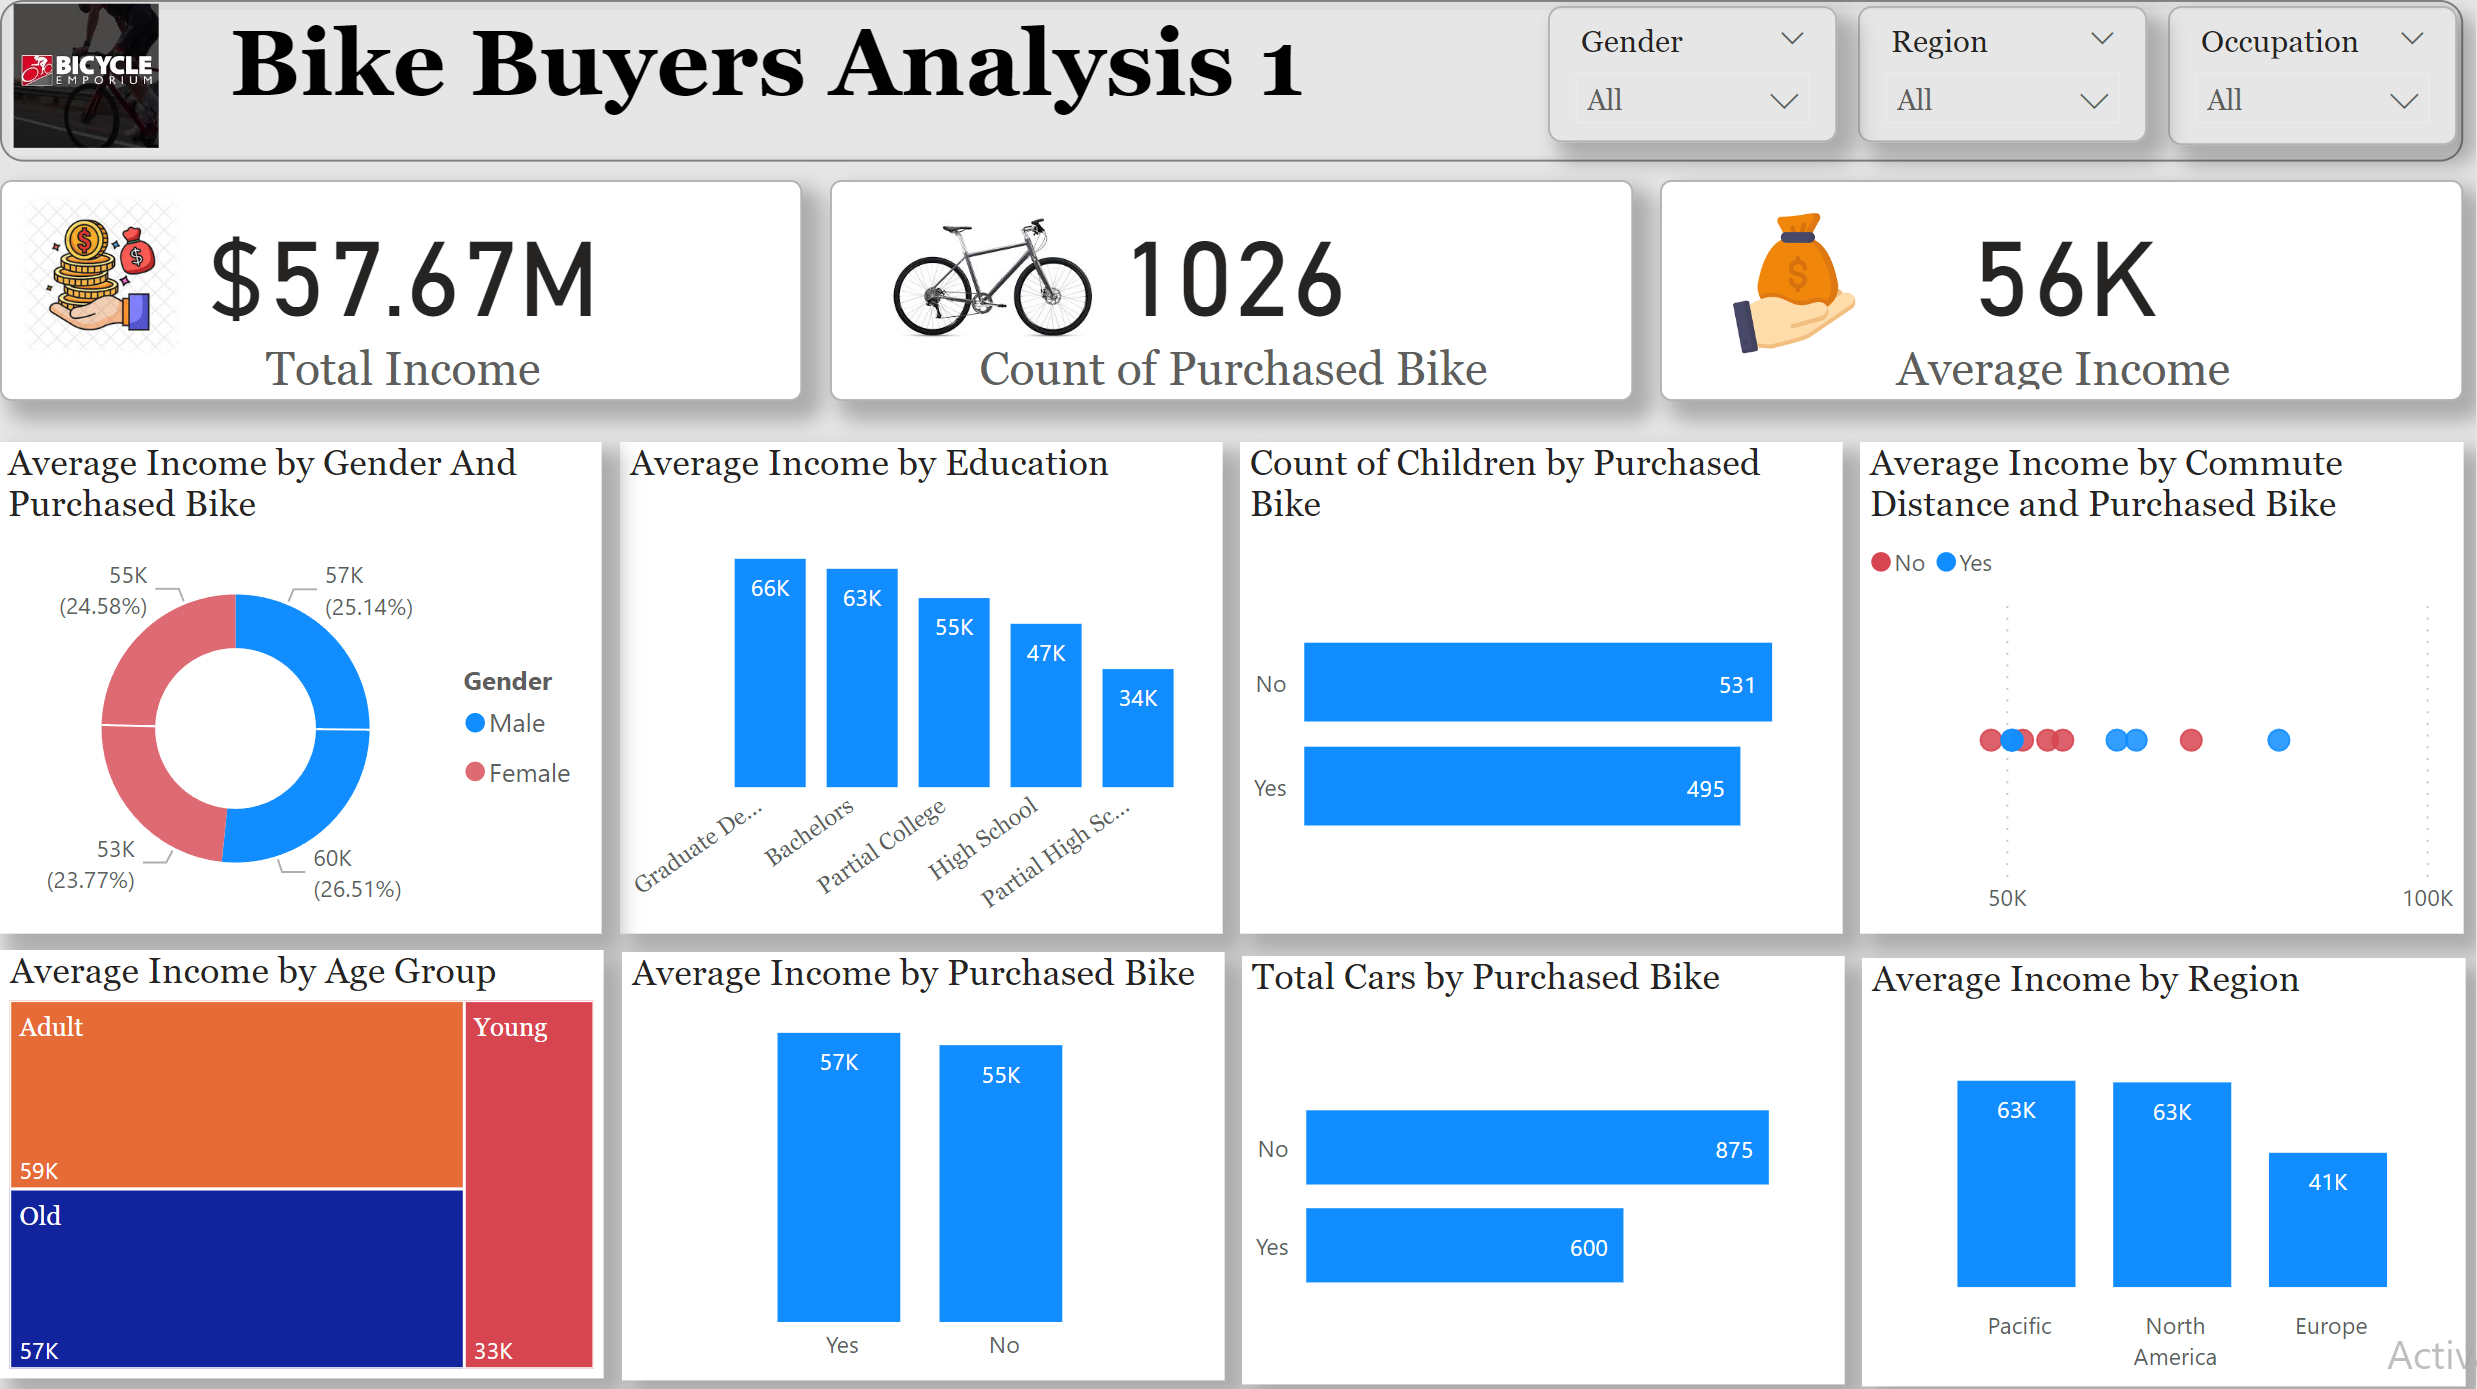

What the dashboard file says about the page in this screenshot:
{"tool":"powerbi","page":{"name":"BIKE BUYERS ANALYSIS 1","canvas":[1280,720],"ordinal":1},"visuals":[{"type":"shape","box":[8.2,5.8,1264.8,82.9],"z":0},{"type":"textbox","box":[121.2,6.2,618.3,72.9],"z":1000},{"type":"card","fields":{"Values":["bike_buyers.Total Income"]},"box":[8.2,98.1,412,113.3],"z":2000},{"type":"card","fields":{"Values":["CountNonNull(bike_buyers.Purchased Bike)"]},"box":[434.3,98.1,412.3,113.3],"z":3000},{"type":"slicer","fields":{"Values":["bike_buyers.Occupation"]},"box":[1122,9.5,148.5,71.6],"z":4000},{"type":"slicer","fields":{"Values":["bike_buyers.Region"]},"box":[962.7,9.5,148.5,70.2],"z":5000},{"type":"slicer","fields":{"Values":["bike_buyers.Gender"]},"box":[803.4,9.5,148.5,70.2],"z":6000},{"type":"card","fields":{"Values":["bike_buyers.Average Income"]},"box":[860.7,98.1,412.3,113.3],"z":7000},{"type":"columnChart","fields":{"Y":["bike_buyers.Average Income"],"Category":["bike_buyers.Education"]},"box":[326.2,233.2,309.5,252.3],"z":8000},{"type":"barChart","title":"Count of Children by Purchased Bike","fields":{"Category":["bike_buyers.Purchased Bike"],"Y":["CountNonNull(bike_buyers.Children)"]},"box":[644.8,233.4,309.5,252.3],"z":9000},{"type":"scatterChart","fields":{"Category":["bike_buyers.Commute Distance"],"Series":["bike_buyers.Purchased Bike"],"X":["bike_buyers.Average Income"]},"box":[963.5,233.6,310,252.3],"z":10000},{"type":"donutChart","title":"Average Income by Gender And Purchased Bike","fields":{"Category":["bike_buyers.Gender","bike_buyers.Marital Status"],"Series":["bike_buyers.Purchased Bike"],"Y":["bike_buyers.Average Income"]},"box":[7,233,310,252.3],"z":11000},{"type":"treemap","fields":{"Values":["bike_buyers.Average Income"],"Group":["bike_buyers.Age Group"]},"box":[8.2,493.9,310,220],"z":12000},{"type":"columnChart","fields":{"Category":["bike_buyers.Purchased Bike"],"Y":["bike_buyers.Average Income"]},"box":[327.3,495.3,309.5,220],"z":13000},{"type":"barChart","title":"Total Cars by Purchased Bike","fields":{"Category":["bike_buyers.Purchased Bike"],"Y":["Sum(bike_buyers.Cars)"]},"box":[646,496.7,309.5,220],"z":14000},{"type":"columnChart","fields":{"Y":["bike_buyers.Average Income"],"Category":["bike_buyers.Region"]},"box":[964.7,498,310,220],"z":15000},{"type":"image","box":[8.2,100.4,103.9,93.4],"z":16000},{"type":"image","box":[442.6,108.6,148.3,75.9],"z":17000},{"type":"image","box":[868.9,108.6,121.5,85.3],"z":18000},{"type":"image","box":[8.2,3.5,88.8,84.1],"z":19000}]}

Visuals, with their boxes in screenshot pixels (x1, y1, x2, y2), scaled from the page's 1280x720 canvas onto the 2477x1389 screenshot:
shape: locate(16, 11, 2463, 171)
textbox: locate(235, 12, 1431, 153)
card - bike_buyers.Total Income: locate(16, 189, 813, 408)
card - CountNonNull(bike_buyers.Purchased Bike): locate(840, 189, 1638, 408)
slicer - bike_buyers.Occupation: locate(2171, 18, 2459, 156)
slicer - bike_buyers.Region: locate(1863, 18, 2150, 154)
slicer - bike_buyers.Gender: locate(1555, 18, 1842, 154)
card - bike_buyers.Average Income: locate(1666, 189, 2463, 408)
columnChart - bike_buyers.Average Income x bike_buyers.Education: locate(631, 450, 1230, 937)
"Count of Children by Purchased Bike" barChart: locate(1248, 450, 1847, 937)
scatterChart - bike_buyers.Commute Distance x bike_buyers.Purchased Bike: locate(1865, 451, 2464, 937)
"Average Income by Gender And Purchased Bike" donutChart: locate(14, 449, 613, 936)
treemap - bike_buyers.Average Income x bike_buyers.Age Group: locate(16, 953, 616, 1377)
columnChart - bike_buyers.Purchased Bike x bike_buyers.Average Income: locate(633, 956, 1232, 1380)
"Total Cars by Purchased Bike" barChart: locate(1250, 958, 1849, 1383)
columnChart - bike_buyers.Average Income x bike_buyers.Region: locate(1867, 961, 2467, 1385)
image: locate(16, 194, 217, 374)
image: locate(857, 210, 1143, 356)
image: locate(1681, 210, 1917, 374)
image: locate(16, 7, 188, 169)
